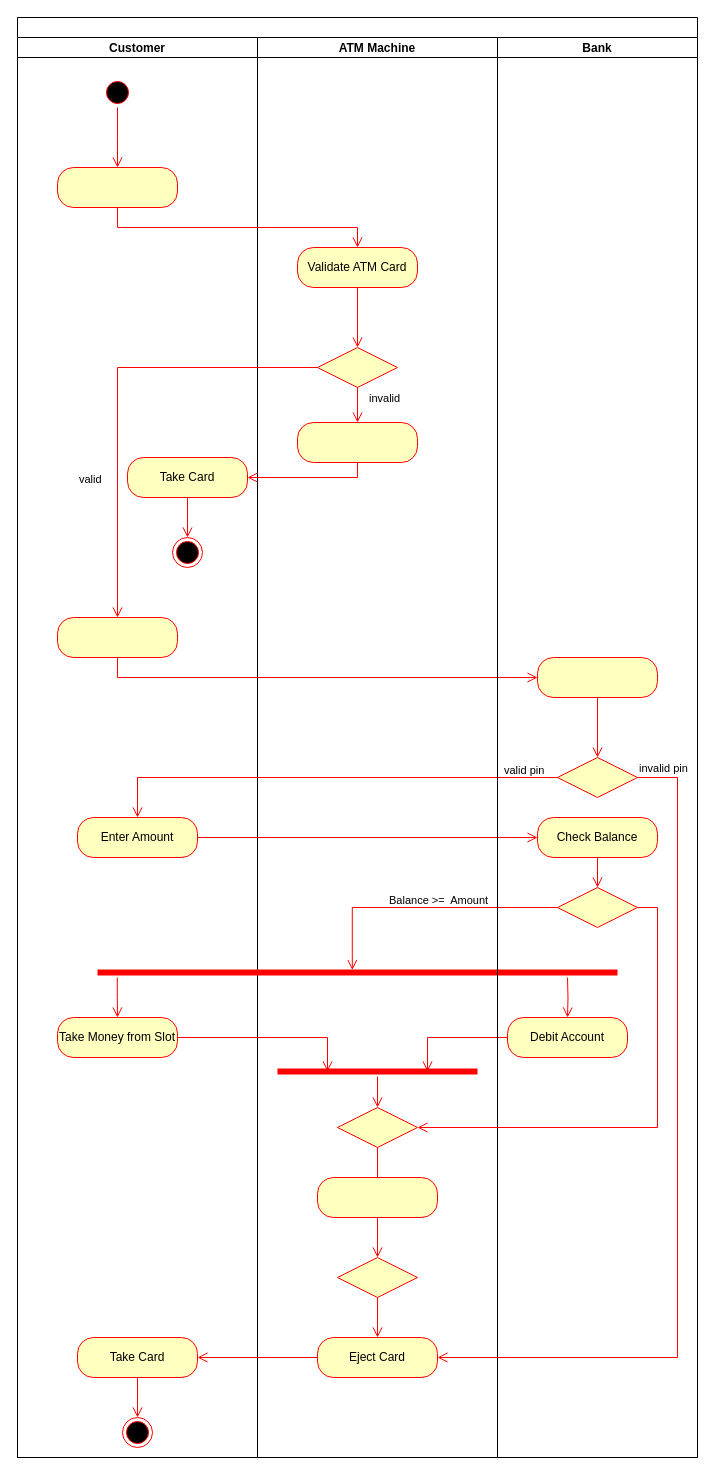
The diagram is 715 pixels wide and 1475 high, and some of its shapes have lost their labels. Each missing label, with the centre of its shape:
Activity: point 357,442
Authorize PIN: point 597,677
Enter PIN: point 117,637
Insert ATM Card: point 117,187
Show Balance: point 377,1197
